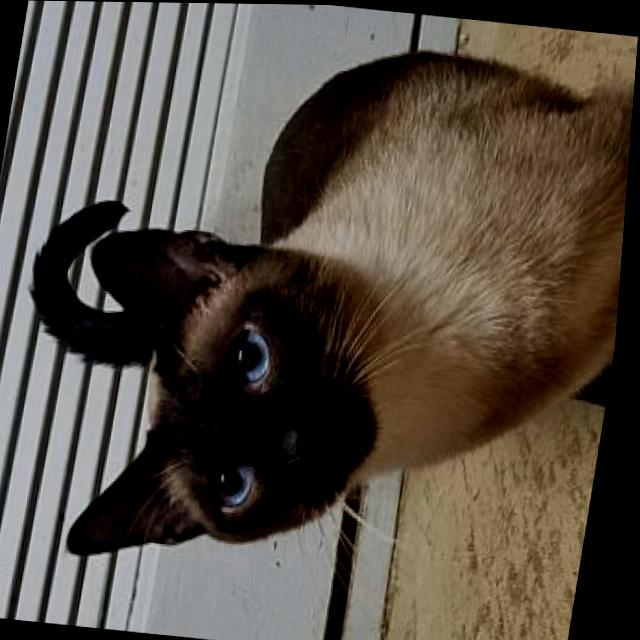Siamese: (0, 6, 640, 613)
